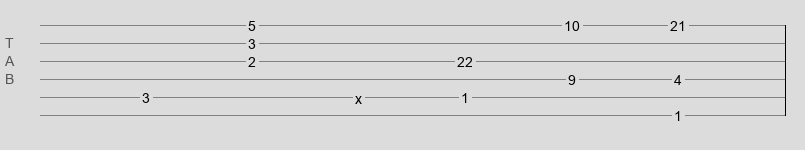1: (461, 90, 469, 100), (674, 108, 682, 118)
10: (564, 18, 580, 28)
2: (248, 54, 256, 64)
21: (670, 18, 686, 28)
22: (457, 54, 473, 64)
3: (142, 90, 150, 100), (248, 36, 256, 46)
4: (674, 72, 682, 82)
5: (248, 18, 256, 28)
9: (568, 72, 576, 82)
x: (355, 91, 362, 99)
